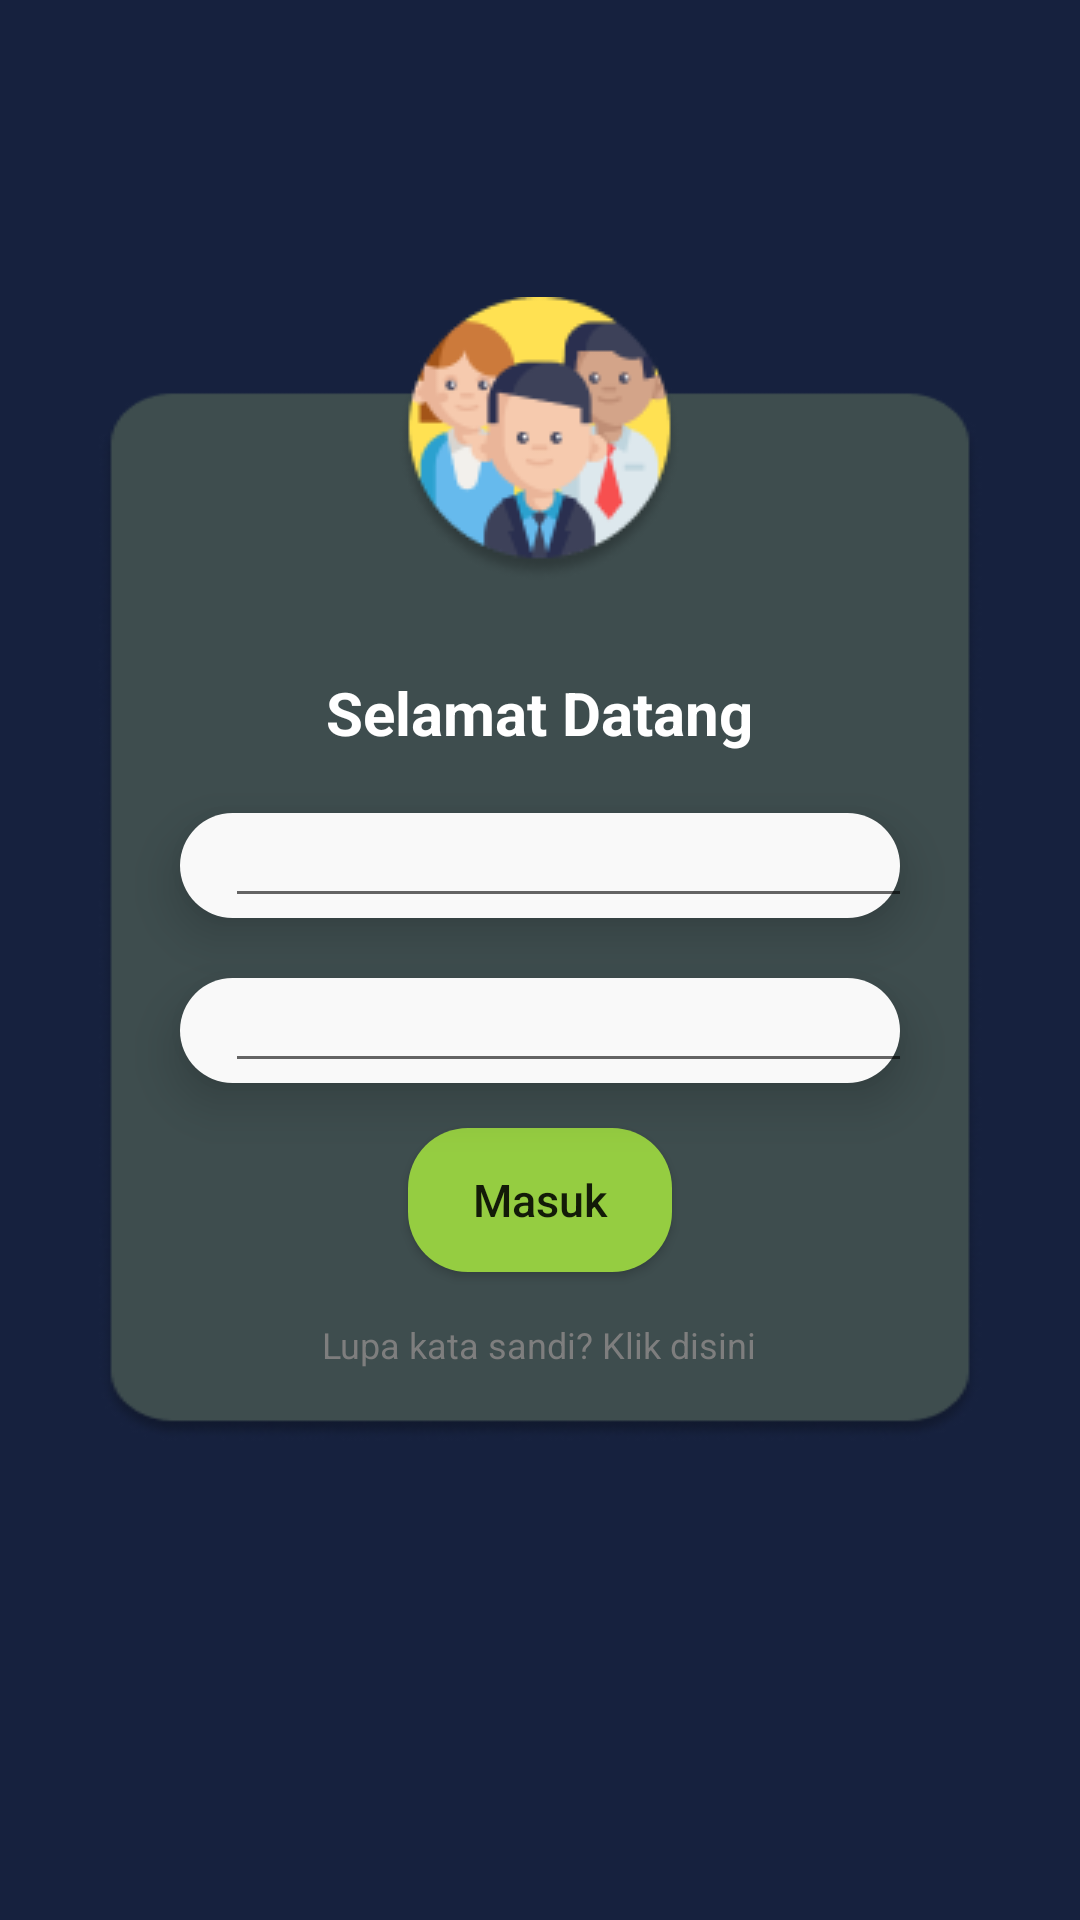

Named icons in this screenshot (1080×1920) and their centers, point (x, y):
team login: point (539, 439)
